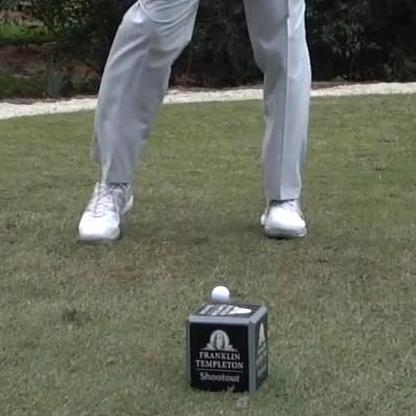golfball: (208, 281, 230, 302)
